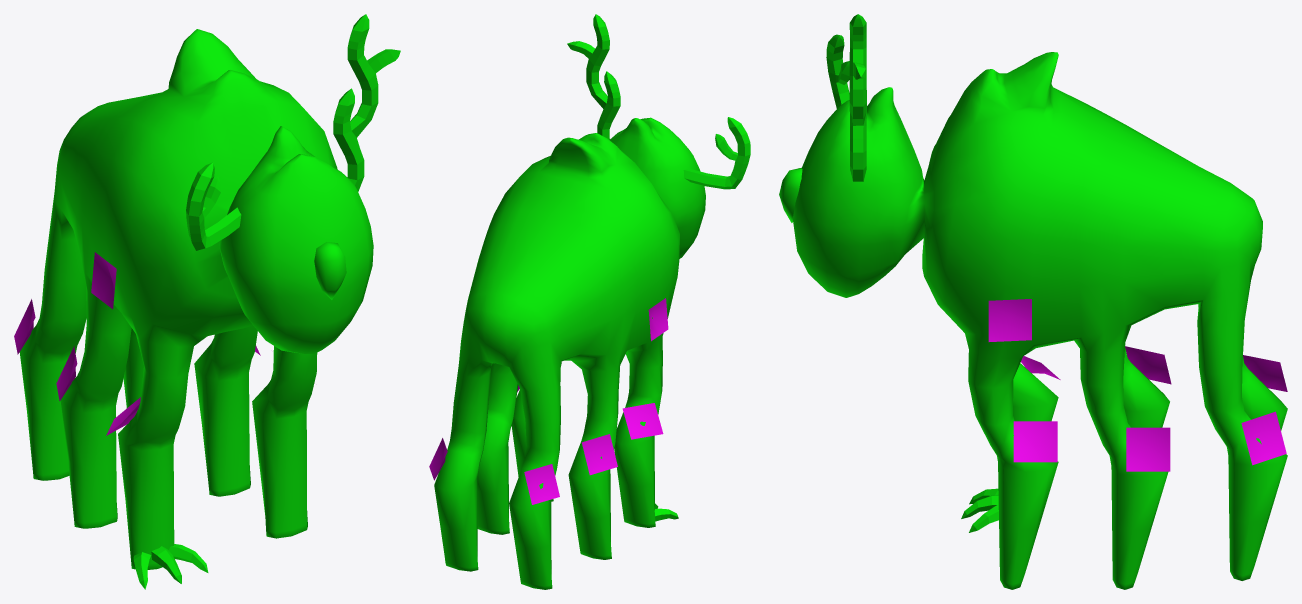
File: scurrier_model.fbx
The picture shows the model from 3 angles, left to right: view 1: azimuth 30°, elevation 25°; view 2: azimuth 150°, elevation 25°; view 3: azimuth 270°, elevation 25°; orthographic projection. The views are drawn at different scales.
Parts seen in each view (by area): view 1: scurrier_basemodel, horns1, horns, redeye, pPlane11, pPlane10, pPlane9, polySurface2, polySurface3; view 2: scurrier_basemodel, horns1, horns, pPlane8, pPlane9, pPlane10, pPlane11; view 3: scurrier_basemodel, horns1, pPlane3, pPlane4, pPlane5, pPlane6, horns, pPlane9, pPlane10, redeye.
Boxes of the visible parts, x1=… form: scurrier_basemodel: x1=19, y1=29, x2=373, y2=569; horns1: x1=333, y1=14, x2=400, y2=191; horns: x1=186, y1=162, x2=241, y2=250; redeye: x1=314, y1=242, x2=346, y2=299; pPlane11: x1=91, y1=252, x2=116, y2=309; pPlane10: x1=14, y1=299, x2=35, y2=354; pPlane9: x1=56, y1=346, x2=77, y2=400; polySurface2: x1=151, y1=546, x2=181, y2=583; polySurface3: x1=168, y1=544, x2=208, y2=572; scurrier_basemodel: x1=434, y1=117, x2=705, y2=589; horns1: x1=567, y1=14, x2=620, y2=139; horns: x1=683, y1=117, x2=750, y2=189; pPlane8: x1=622, y1=403, x2=663, y2=439; pPlane9: x1=581, y1=434, x2=617, y2=475; pPlane10: x1=524, y1=464, x2=559, y2=504; pPlane11: x1=648, y1=298, x2=668, y2=341; scurrier_basemodel: x1=792, y1=52, x2=1287, y2=589; horns1: x1=849, y1=14, x2=866, y2=181; pPlane3: x1=1126, y1=427, x2=1170, y2=471; pPlane4: x1=1013, y1=421, x2=1057, y2=462; pPlane5: x1=988, y1=299, x2=1031, y2=341; pPlane6: x1=1241, y1=411, x2=1286, y2=465; horns: x1=826, y1=34, x2=849, y2=108; pPlane9: x1=1125, y1=346, x2=1171, y2=384; pPlane10: x1=1243, y1=355, x2=1287, y2=391; redeye: x1=779, y1=168, x2=802, y2=222.
Bounding box in the file's own units: 99.69 × 234 × 190.
